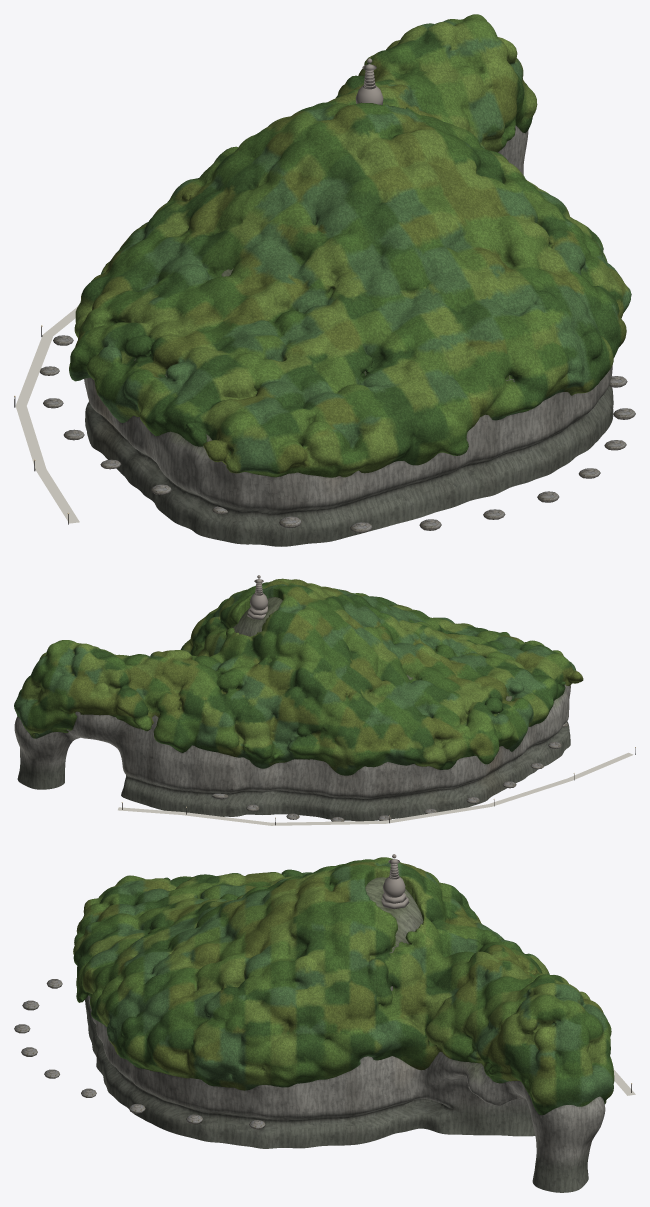
Rendered from xiangbishan.glb.
3 renders of one model, top to bottom at view 1: azimuth 30°, elevation 25°; view 2: azimuth 150°, elevation 25°; view 3: azimuth 270°, elevation 25°, orthographic. The views are drawn at different scales.
Visible parts, largest first — view 1: xiangbishan-canopy, xiangbishan-rock, xiangbishan实体构件 3, xiangbishan实体构件 2; view 2: xiangbishan-canopy, xiangbishan-rock, xiangbishan实体构件 2, xiangbishan实体构件 3, xiangbishan实体构件 1; view 3: xiangbishan-canopy, xiangbishan-rock, xiangbishan实体构件 3, xiangbishan实体构件 1.
Boxes of the visible parts, left/top/right/bottom form: xiangbishan-canopy: left=69, top=14, right=631, bottom=477; xiangbishan-rock: left=84, top=125, right=613, bottom=546; xiangbishan实体构件 3: left=40, top=335, right=635, bottom=532; xiangbishan实体构件 2: left=15, top=306, right=79, bottom=523; xiangbishan-canopy: left=14, top=578, right=583, bottom=775; xiangbishan-rock: left=14, top=597, right=570, bottom=821; xiangbishan实体构件 2: left=118, top=752, right=633, bottom=825; xiangbishan实体构件 3: left=212, top=722, right=568, bottom=821; xiangbishan实体构件 1: left=247, top=575, right=268, bottom=619; xiangbishan-canopy: left=73, top=857, right=614, bottom=1115; xiangbishan-rock: left=85, top=877, right=605, bottom=1192; xiangbishan实体构件 3: left=14, top=979, right=265, bottom=1129; xiangbishan实体构件 1: left=381, top=854, right=409, bottom=909.
Size of the model in its own units: 165 by 65.81 by 157.
Materials: 7 (3 with a texture image).
